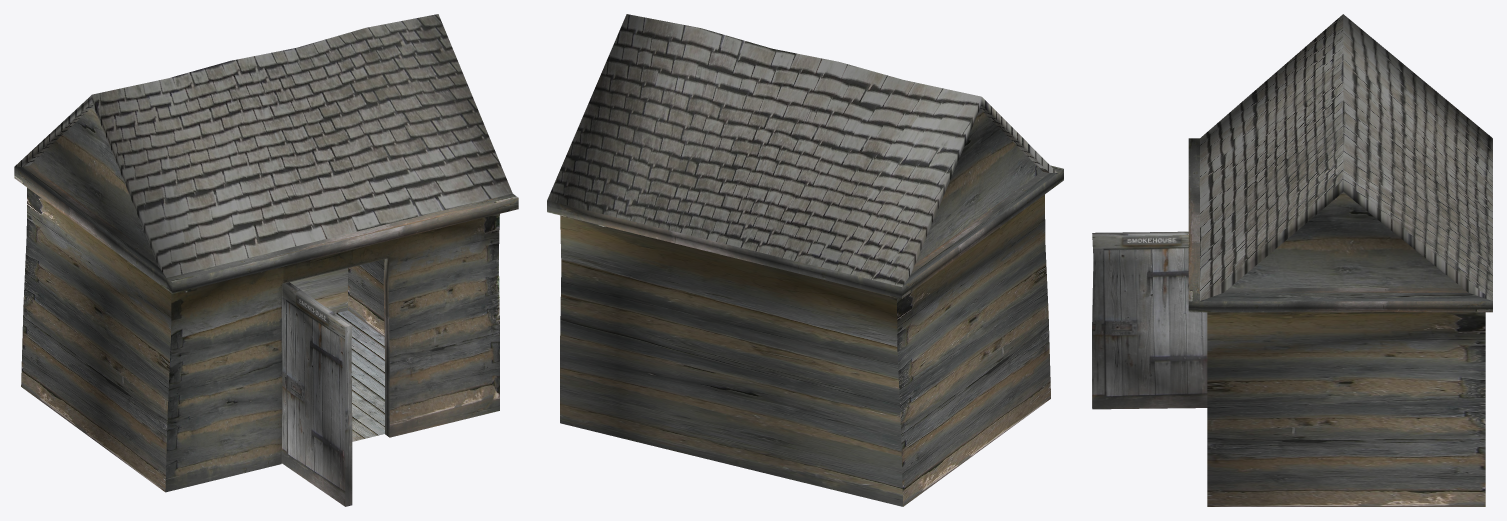
File: smokehouse_opendoor.fbx
3 renders of one model, left to right at view 1: azimuth 30°, elevation 25°; view 2: azimuth 150°, elevation 25°; view 3: azimuth 270°, elevation 25°, orthographic. The views are drawn at different scales.
Visible parts, largest first — view 1: U3DMesh; view 2: U3DMesh; view 3: U3DMesh.
Boxes of the visible parts, box(x1,y1,x2,y2) form: U3DMesh: box(14, 14, 518, 506); U3DMesh: box(547, 14, 1063, 506); U3DMesh: box(1092, 14, 1492, 506).
Size of the model in its own units: 9.01 by 8.63 by 9.38.
1 material, 1 textured.
